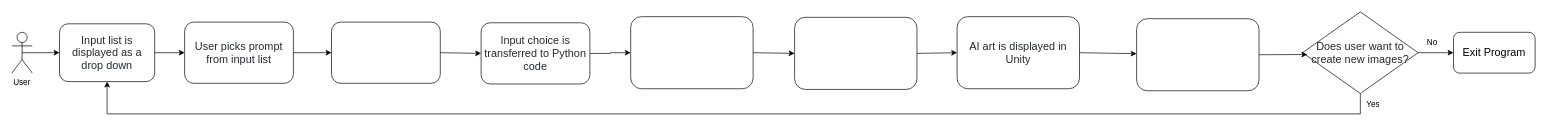
The diagram is 1547 pixels wide and 131 high, and some of its shapes have lost their labels. Here are the shapes that lost their labels. From the top down, the centre of each, then its label:
the point at 385,52: Input choice is picked up by Unity
the point at 691,52: AI chooses a pixel / image generating technique that best fits input
the point at 855,53: AI creates image
the point at 1197,54: User is able to walk around gallery
